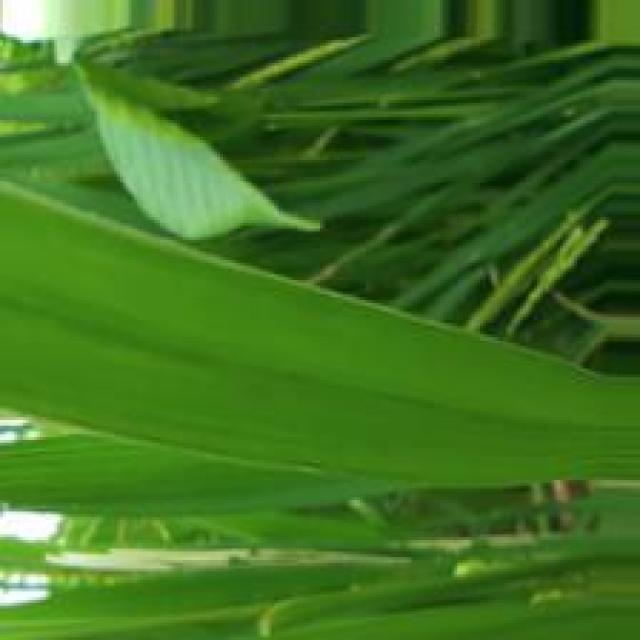HealthyLeaf: (0, 178, 640, 485), (88, 81, 323, 239)
